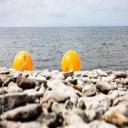yellow: (13, 50, 34, 72), (61, 50, 81, 71)
